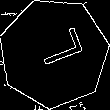L_W: (25, 30, 83, 77)
